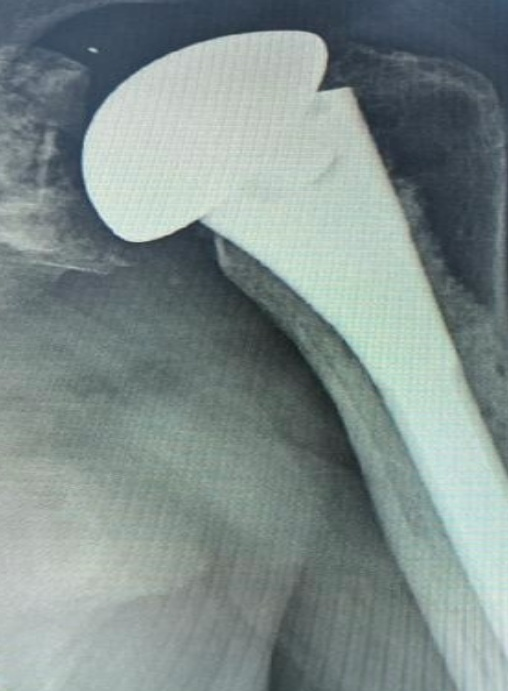Shoulder - Anotomical - Stryker: (71, 18, 413, 249)
